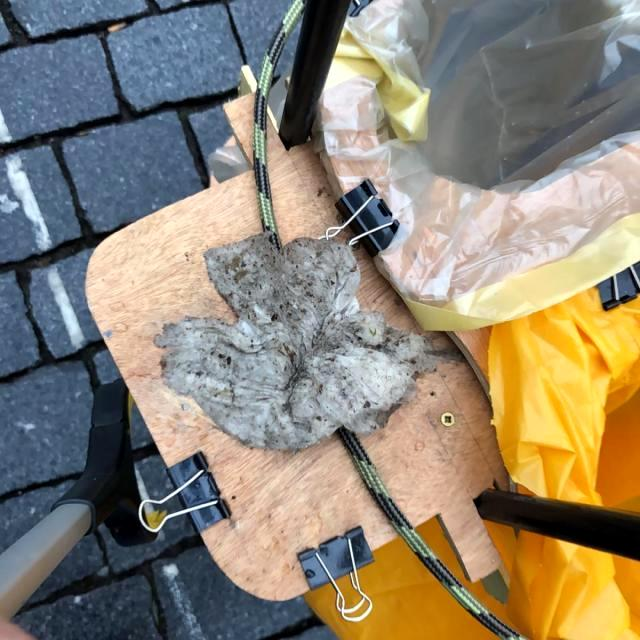Paper: (152, 229, 434, 455)
